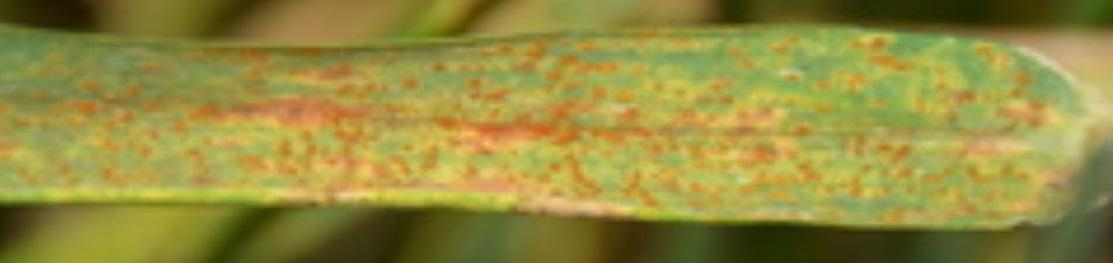Wheat: (4, 49, 1006, 187)
